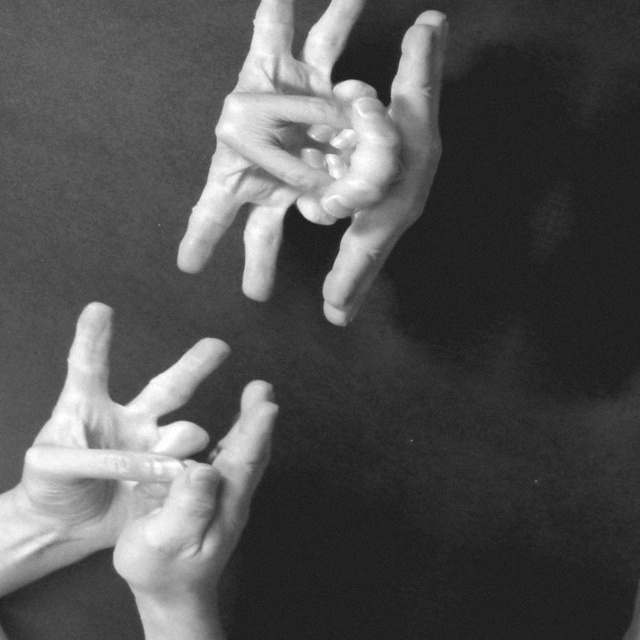Scissors: (3, 294, 250, 581), (165, 112, 362, 319)
